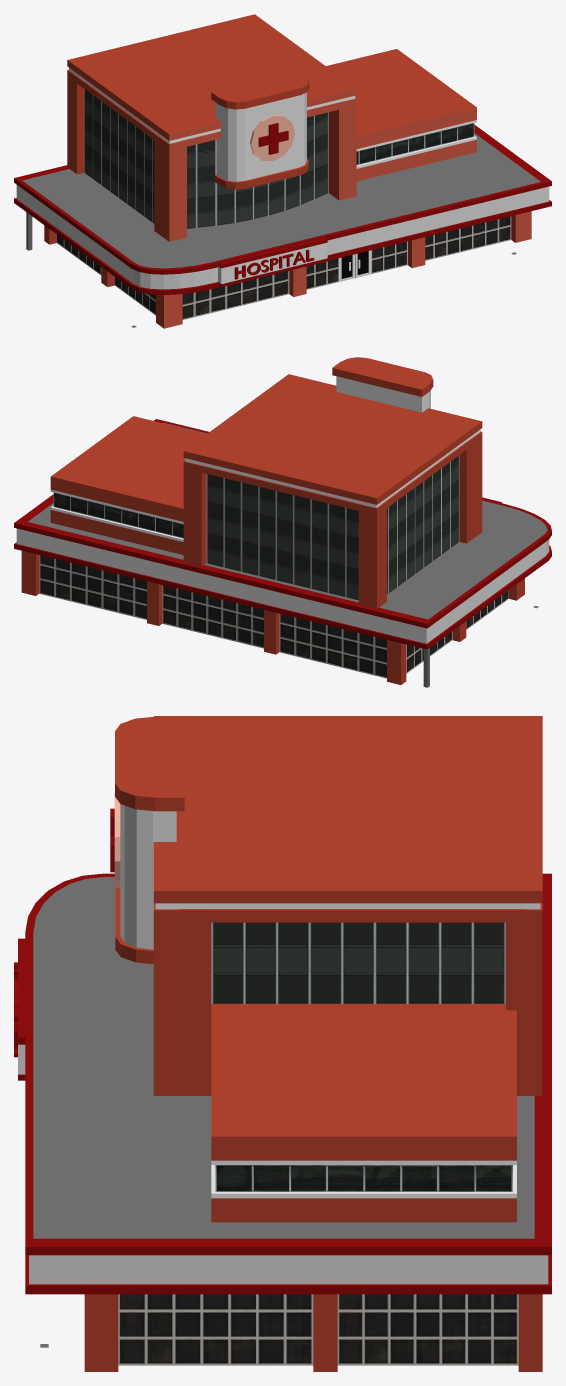
File: Hospital-3.fbx
The picture shows the model from 3 angles, top to bottom: view 1: azimuth 30°, elevation 25°; view 2: azimuth 150°, elevation 25°; view 3: azimuth 270°, elevation 25°; orthographic projection. The views are drawn at different scales.
Visible parts, largest first — view 1: Cube; view 2: Cube; view 3: Cube.
Part boxes in pixels (x1,y1,x2,y2): Cube: (14, 14, 551, 328); Cube: (14, 357, 551, 687); Cube: (14, 716, 551, 1371).
Size of what is drawn, in the model's own units: 40.13 by 19.11 by 24.45.
